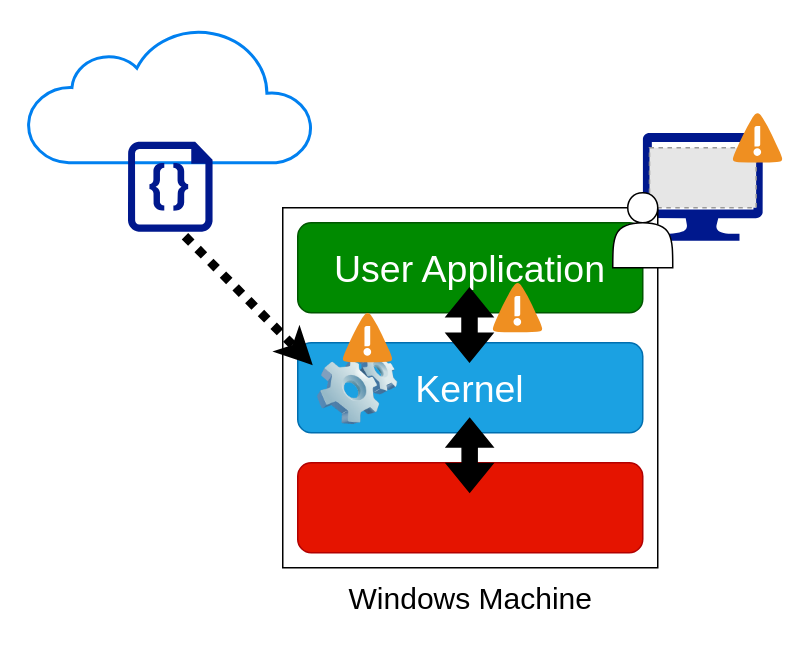
Image size: 809x653. Some labels were removed from this diagram. Grey dashed boxes stand in for pictures. Each missing label, with the centre of its shape:
CrowdStrike systems: point 170,95
Hardware: point 469,507
